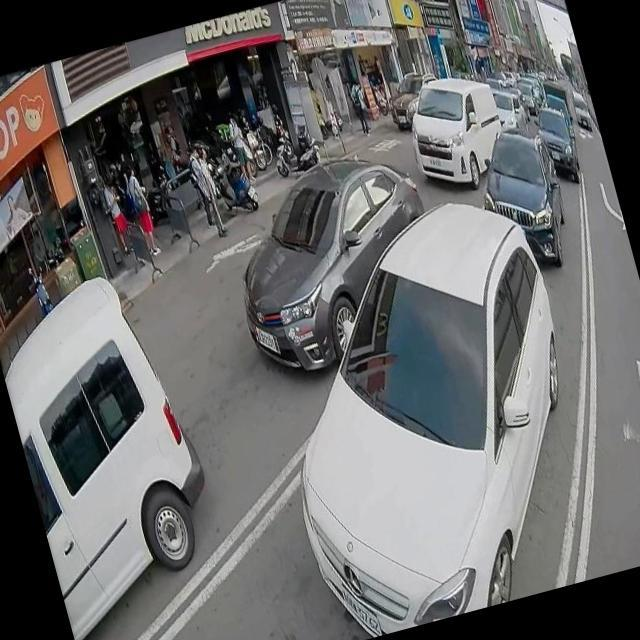person: (117, 154, 164, 260), (183, 144, 226, 237), (95, 174, 136, 264), (222, 108, 256, 184), (346, 80, 371, 136), (162, 125, 186, 172)
